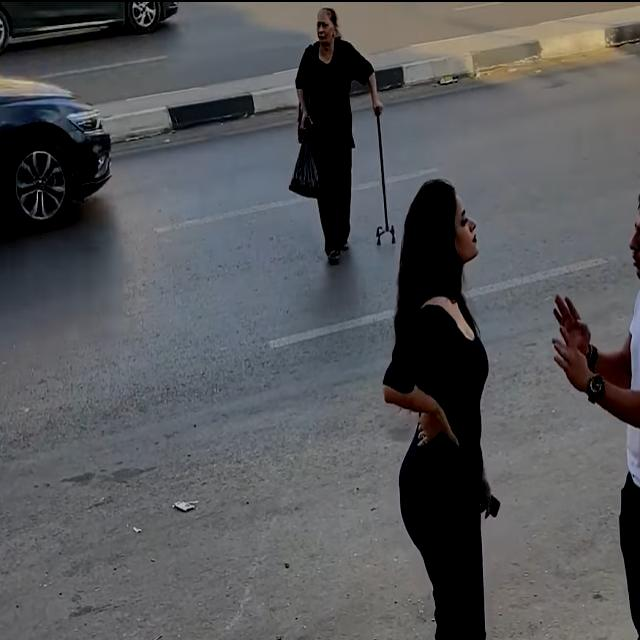Car: (0, 60, 119, 253), (0, 0, 187, 46)
